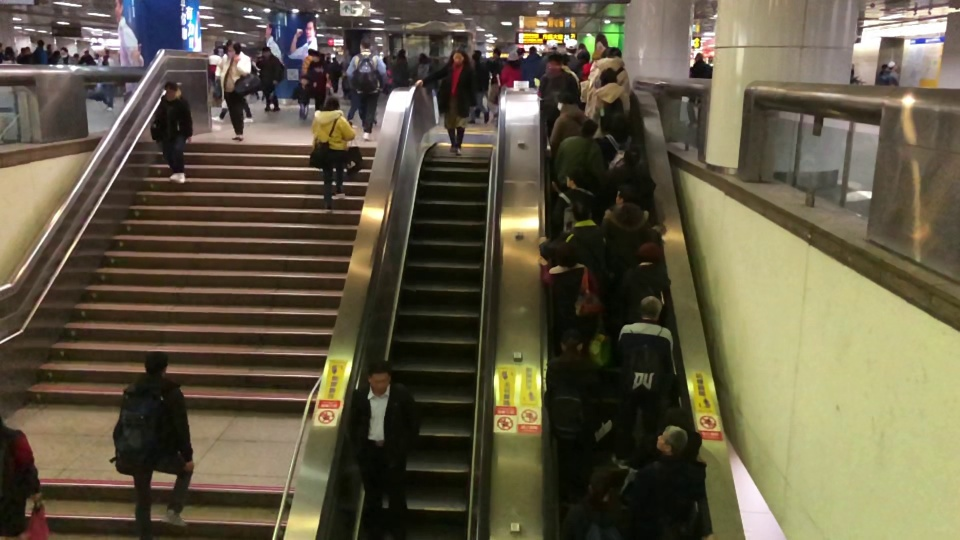person_head: (586, 464, 617, 502), (654, 425, 688, 457), (547, 237, 577, 269), (367, 358, 393, 394), (558, 327, 583, 358), (143, 349, 169, 377), (637, 295, 663, 322), (636, 241, 663, 265), (608, 111, 629, 137), (614, 183, 637, 206), (570, 198, 592, 222), (555, 88, 577, 111), (579, 118, 599, 139), (599, 67, 619, 88), (565, 167, 584, 189), (622, 145, 641, 166), (545, 54, 564, 73), (164, 81, 180, 102), (449, 49, 467, 67), (599, 45, 622, 59), (323, 96, 340, 112), (225, 40, 240, 58), (564, 38, 578, 55), (576, 50, 591, 65), (506, 50, 520, 64), (358, 36, 371, 51), (545, 38, 558, 51), (470, 49, 482, 61), (417, 52, 429, 64), (694, 51, 704, 64), (261, 46, 271, 58), (886, 60, 896, 71), (3, 47, 13, 58), (397, 49, 407, 59), (528, 45, 537, 56), (492, 47, 501, 58), (311, 51, 320, 62), (60, 46, 68, 58), (517, 47, 526, 57), (299, 75, 308, 85), (36, 39, 44, 49), (306, 48, 315, 56), (103, 48, 110, 57), (82, 48, 89, 57), (47, 43, 54, 52), (331, 56, 336, 63)
person_vbox: (120, 349, 196, 540), (348, 358, 420, 540), (609, 295, 674, 469), (542, 327, 604, 503), (619, 425, 707, 540), (536, 237, 603, 352), (537, 197, 611, 293), (413, 49, 476, 157), (600, 184, 667, 276), (614, 240, 671, 345), (560, 465, 633, 540), (310, 96, 356, 214), (0, 417, 42, 540), (148, 81, 193, 183), (346, 36, 386, 140), (537, 54, 579, 150), (214, 39, 252, 141), (551, 167, 604, 238), (554, 118, 607, 188), (604, 145, 656, 212), (578, 45, 630, 104), (550, 88, 591, 159), (584, 67, 632, 123), (599, 111, 640, 168), (686, 51, 712, 129), (478, 47, 502, 123), (465, 49, 489, 125), (257, 46, 281, 113), (307, 51, 327, 111), (97, 48, 116, 111), (519, 45, 545, 88), (290, 75, 313, 121), (499, 50, 522, 88), (560, 38, 580, 78), (391, 49, 410, 88), (412, 51, 433, 83), (576, 50, 593, 82), (327, 56, 341, 94), (541, 38, 565, 59), (32, 39, 48, 65), (300, 48, 315, 75), (882, 60, 898, 85), (56, 46, 78, 64), (78, 47, 96, 65), (1, 47, 17, 64), (44, 43, 54, 66)
